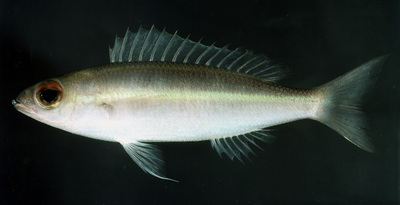fish: (9, 24, 389, 183)
